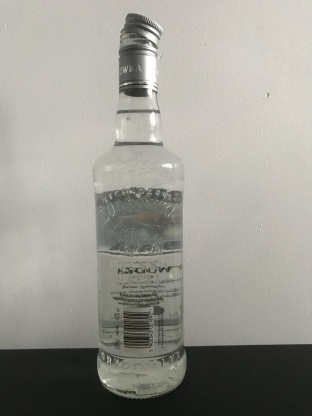nakretka: (117, 10, 164, 97)
